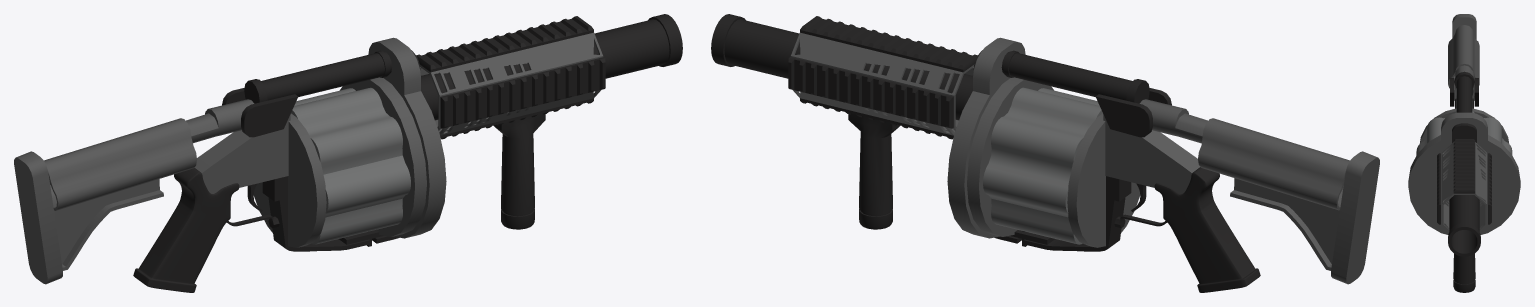
File: Mikor_MGL_Mesh.fbx
The picture shows the model from 3 angles, left to right: view 1: azimuth 30°, elevation 25°; view 2: azimuth 150°, elevation 25°; view 3: azimuth 270°, elevation 25°; orthographic projection. The views are drawn at different scales.
Visible parts, largest first — view 1: Mikor_MGL; view 2: Mikor_MGL; view 3: Mikor_MGL.
Boxes of the visible parts, left/top/right/bottom form: Mikor_MGL: left=14, top=14, right=682, bottom=292; Mikor_MGL: left=711, top=14, right=1379, bottom=292; Mikor_MGL: left=1408, top=14, right=1520, bottom=292.
Bounding box in the file's own units: 0.7999 × 0.2465 × 0.1859.
